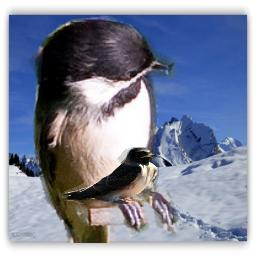Swallow: (29, 12, 184, 243), (61, 147, 159, 205)
